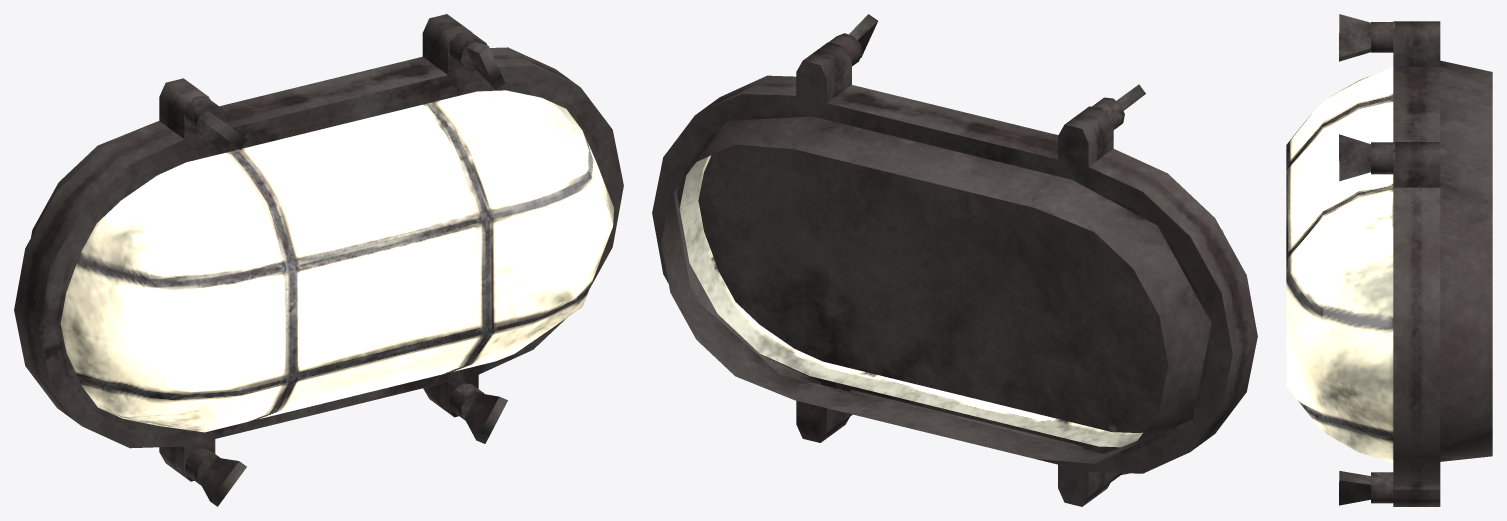
Rendered from wall_lamps.fbx.
3 renders of one model, left to right at view 1: azimuth 30°, elevation 25°; view 2: azimuth 150°, elevation 25°; view 3: azimuth 270°, elevation 25°, orthographic. The views are drawn at different scales.
Visible parts, largest first — view 1: wall_lamp; view 2: wall_lamp; view 3: wall_lamp.
Part boxes in pixels (<box>): wall_lamp: <box>14,14,623,506</box>; wall_lamp: <box>652,14,1257,506</box>; wall_lamp: <box>1286,14,1492,506</box>.
Bounding box in the file's own units: 0.3967 × 0.2576 × 0.1295.
1 material, 1 textured.
